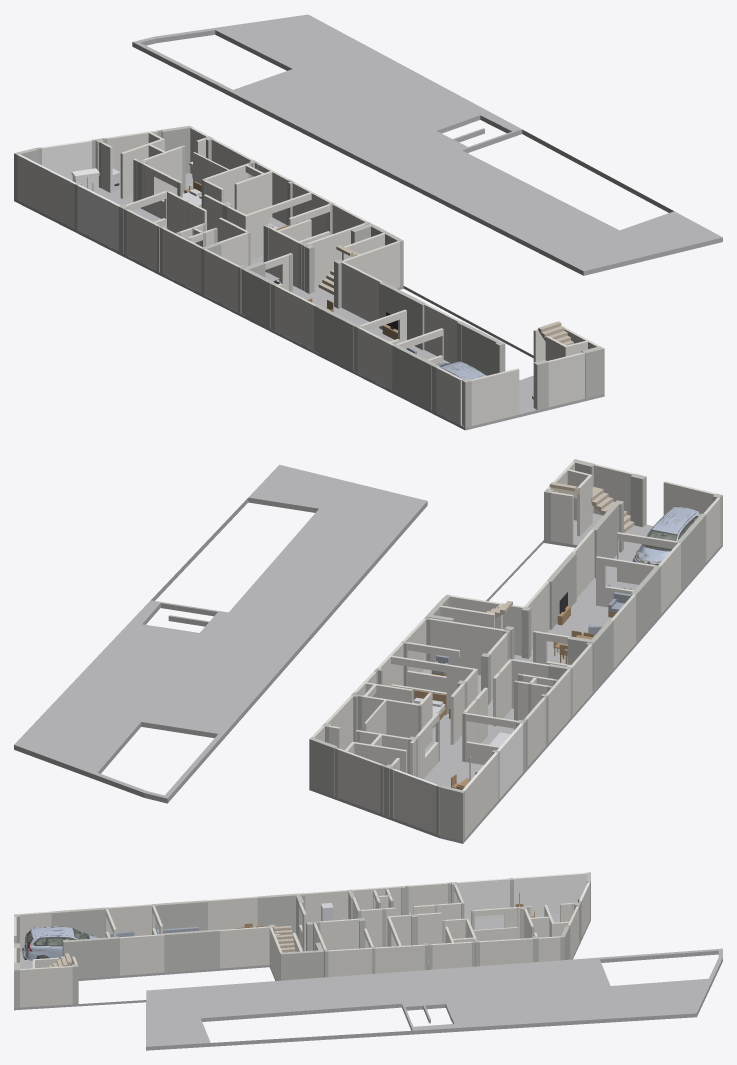
The model's file is casa.glb.
3 views of the same model, one above another, from view 1: azimuth 30°, elevation 25°; view 2: azimuth 150°, elevation 25°; view 3: azimuth 270°, elevation 25° (orthographic). The views are drawn at different scales.
Visible parts, largest first — view 1: Muros_N1, Losa_Entrepiso, Columnas_N1, Placas_N1, Losa_Piso, Caravista, Escaleras; view 2: Losa_Entrepiso, Muros_N1, Columnas_N1, Losa_Piso, Placas_N1, Material2, Caravista, Escaleras; view 3: Losa_Entrepiso, Muros_N1, Placas_N1, Columnas_N1, Caravista, Losa_Piso, Material2, Escaleras.
Part boxes in pixels (<box>): Muros_N1: <box>17,127,599,425</box>; Losa_Entrepiso: <box>132,14,722,275</box>; Columnas_N1: <box>14,125,604,427</box>; Placas_N1: <box>245,225,500,410</box>; Losa_Piso: <box>14,173,604,430</box>; Caravista: <box>18,140,120,251</box>; Escaleras: <box>318,245,573,399</box>; Losa_Entrepiso: <box>14,464,427,803</box>; Muros_N1: <box>312,462,720,838</box>; Columnas_N1: <box>309,459,722,840</box>; Losa_Piso: <box>309,513,722,843</box>; Placas_N1: <box>428,503,703,688</box>; Material2: <box>632,506,699,565</box>; Caravista: <box>393,723,523,798</box>; Escaleras: <box>486,482,634,618</box>; Losa_Entrepiso: <box>146,948,722,1050</box>; Muros_N1: <box>14,882,589,1007</box>; Placas_N1: <box>57,893,319,980</box>; Columnas_N1: <box>14,872,590,1007</box>; Caravista: <box>457,872,589,919</box>; Losa_Piso: <box>14,913,590,1010</box>; Material2: <box>22,926,98,960</box>; Escaleras: <box>48,925,295,967</box>.
Size of the model in its own units: 25.02 by 2.85 by 42.03.
